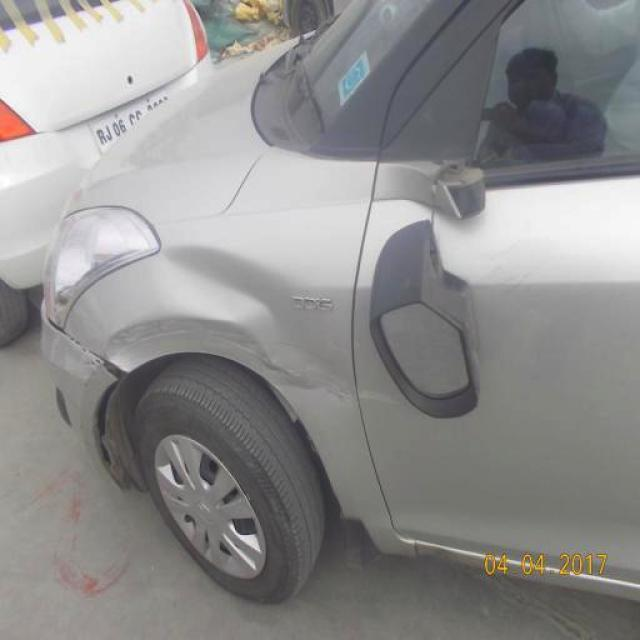car damage: (105, 237, 355, 402), (40, 317, 128, 386)
